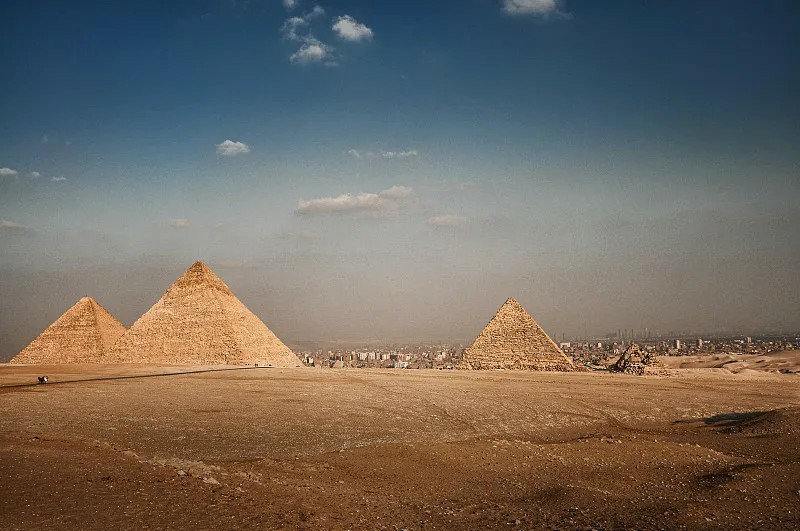Pyramid: (125, 259, 307, 365), (457, 298, 577, 368), (13, 297, 132, 365)
